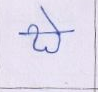e_matra: (39, 7, 61, 31)
